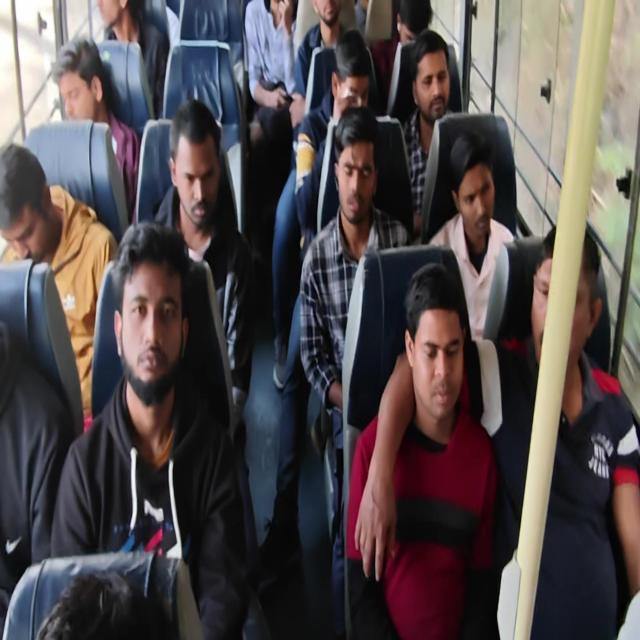person: (408, 280, 466, 412), (118, 255, 180, 371), (522, 242, 580, 361), (0, 151, 64, 258), (163, 130, 217, 218), (449, 165, 502, 246), (54, 42, 103, 119), (408, 47, 454, 124), (333, 50, 372, 125), (392, 0, 437, 65), (339, 142, 376, 214), (86, 0, 126, 32), (312, 0, 338, 41)
